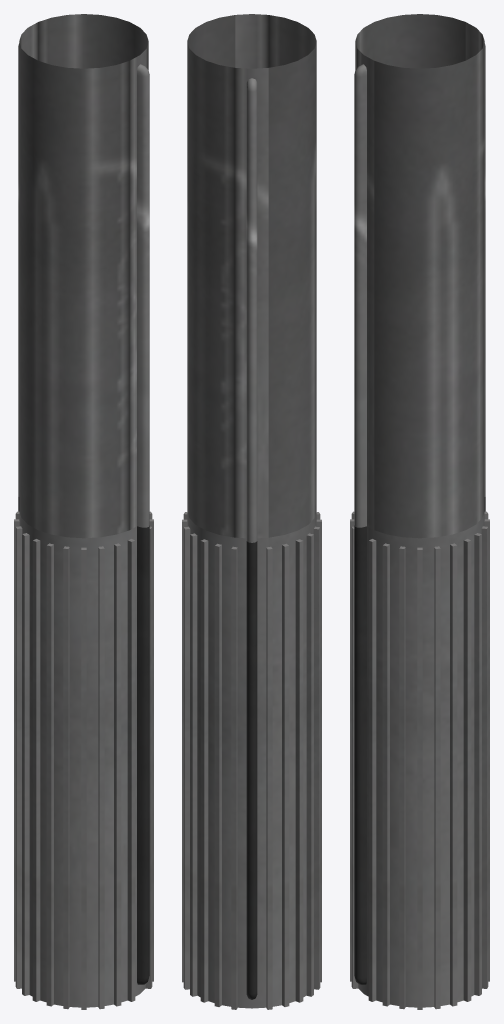
Rendered from black_knight_fuel_tank_s0_4_alt.obj.
The picture shows the model from 3 angles, left to right: view 1: azimuth 30°, elevation 25°; view 2: azimuth 150°, elevation 25°; view 3: azimuth 270°, elevation 25°; orthographic projection.
Visible parts, largest first — view 1: mesh1; view 2: mesh1; view 3: mesh1.
Boxes of the visible parts, x1=… form: mesh1: x1=14, y1=14, x2=153, y2=1009; mesh1: x1=182, y1=14, x2=321, y2=1009; mesh1: x1=350, y1=14, x2=489, y2=1009.
Bounding box in the file's own units: 0.675 × 5 × 0.675.
